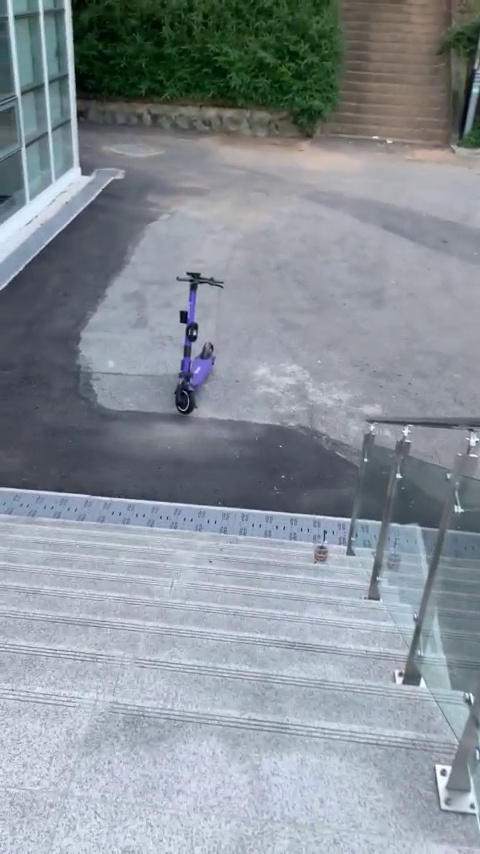beam: (150, 266, 230, 417)
